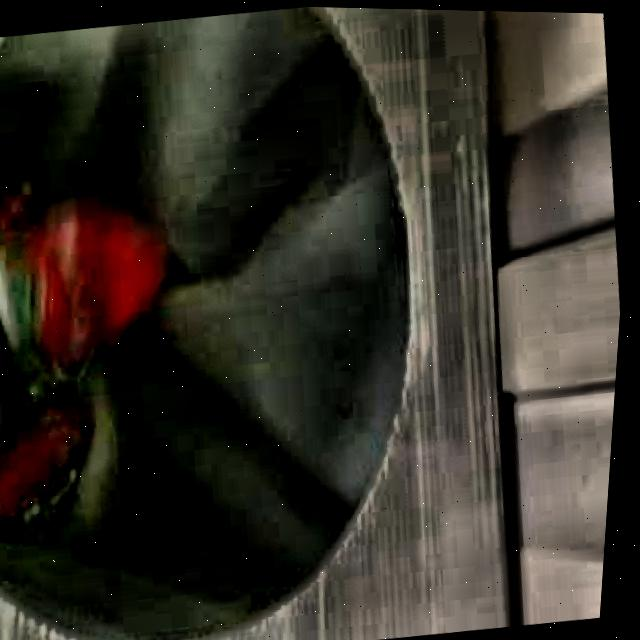metal: (0, 201, 167, 365)
